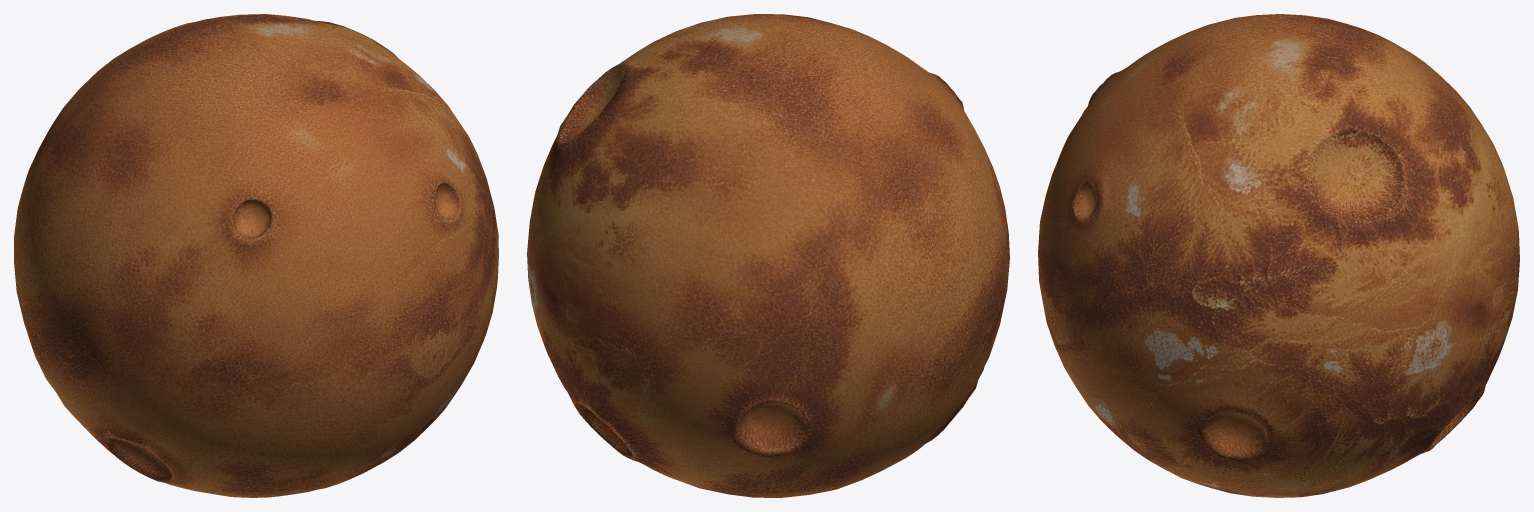
File: tripo_convert_4f99b539-4d7b-4a67-a745-1517ac801736.fbx
3 renders of one model, left to right at view 1: azimuth 30°, elevation 25°; view 2: azimuth 150°, elevation 25°; view 3: azimuth 270°, elevation 25°, orthographic.
Visible parts, largest first — view 1: tripo_node_4f99b539; view 2: tripo_node_4f99b539; view 3: tripo_node_4f99b539.
Part boxes in pixels (<box>): tripo_node_4f99b539: <box>14,14,498,497</box>; tripo_node_4f99b539: <box>527,14,1009,497</box>; tripo_node_4f99b539: <box>1038,14,1519,497</box>.
Bounding box in the file's own units: 0.998 × 0.998 × 0.998.
Materials: 1 (1 with a texture image).
